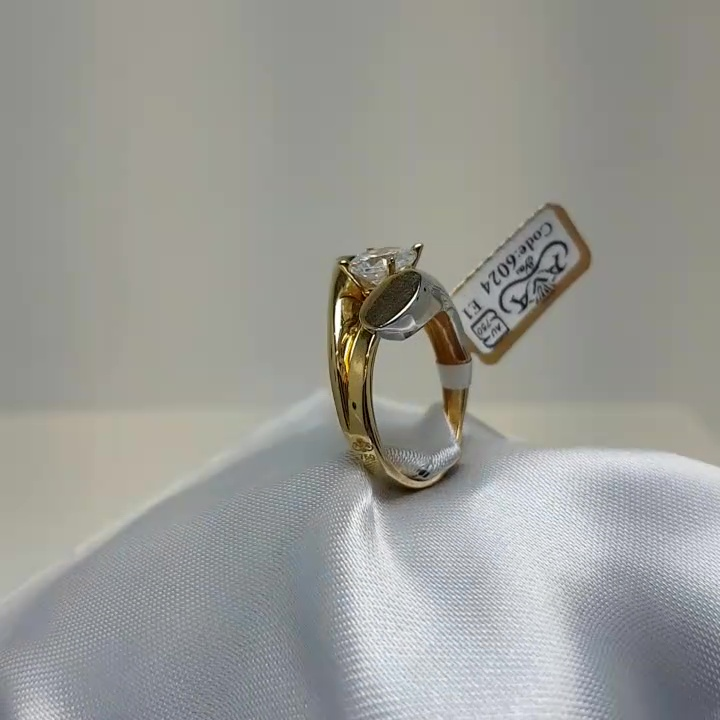Ring 7: (282, 236, 510, 509)
